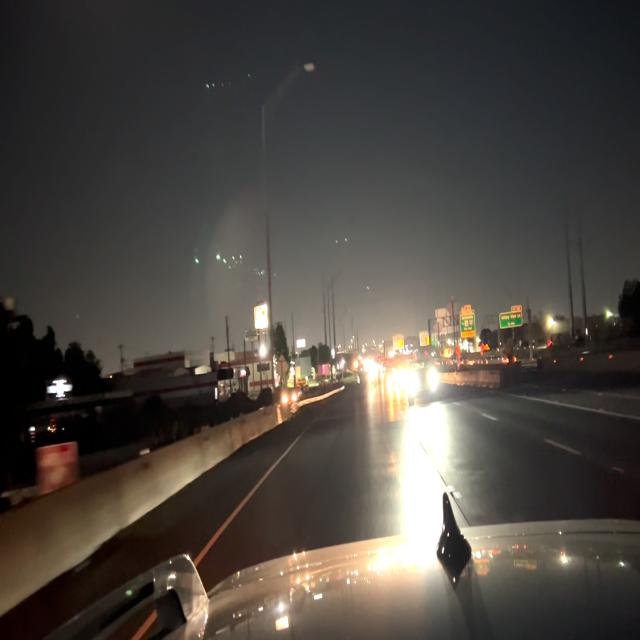back-of-sign: (434, 302, 459, 341)
